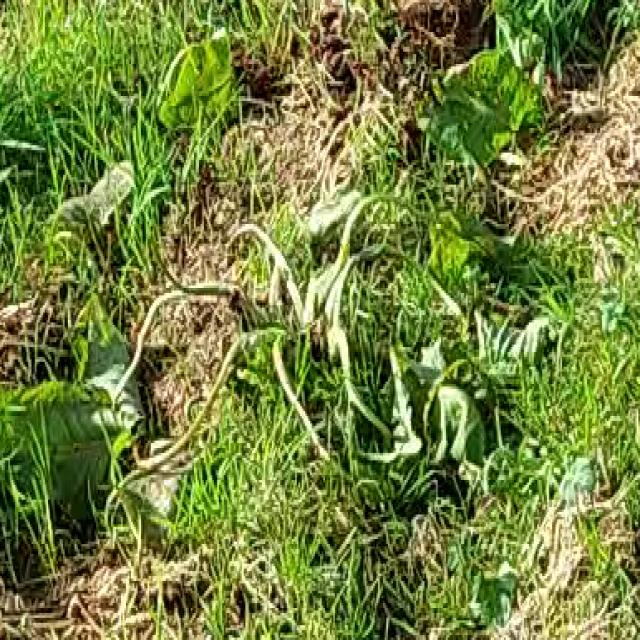organic waste: (15, 29, 580, 536)
